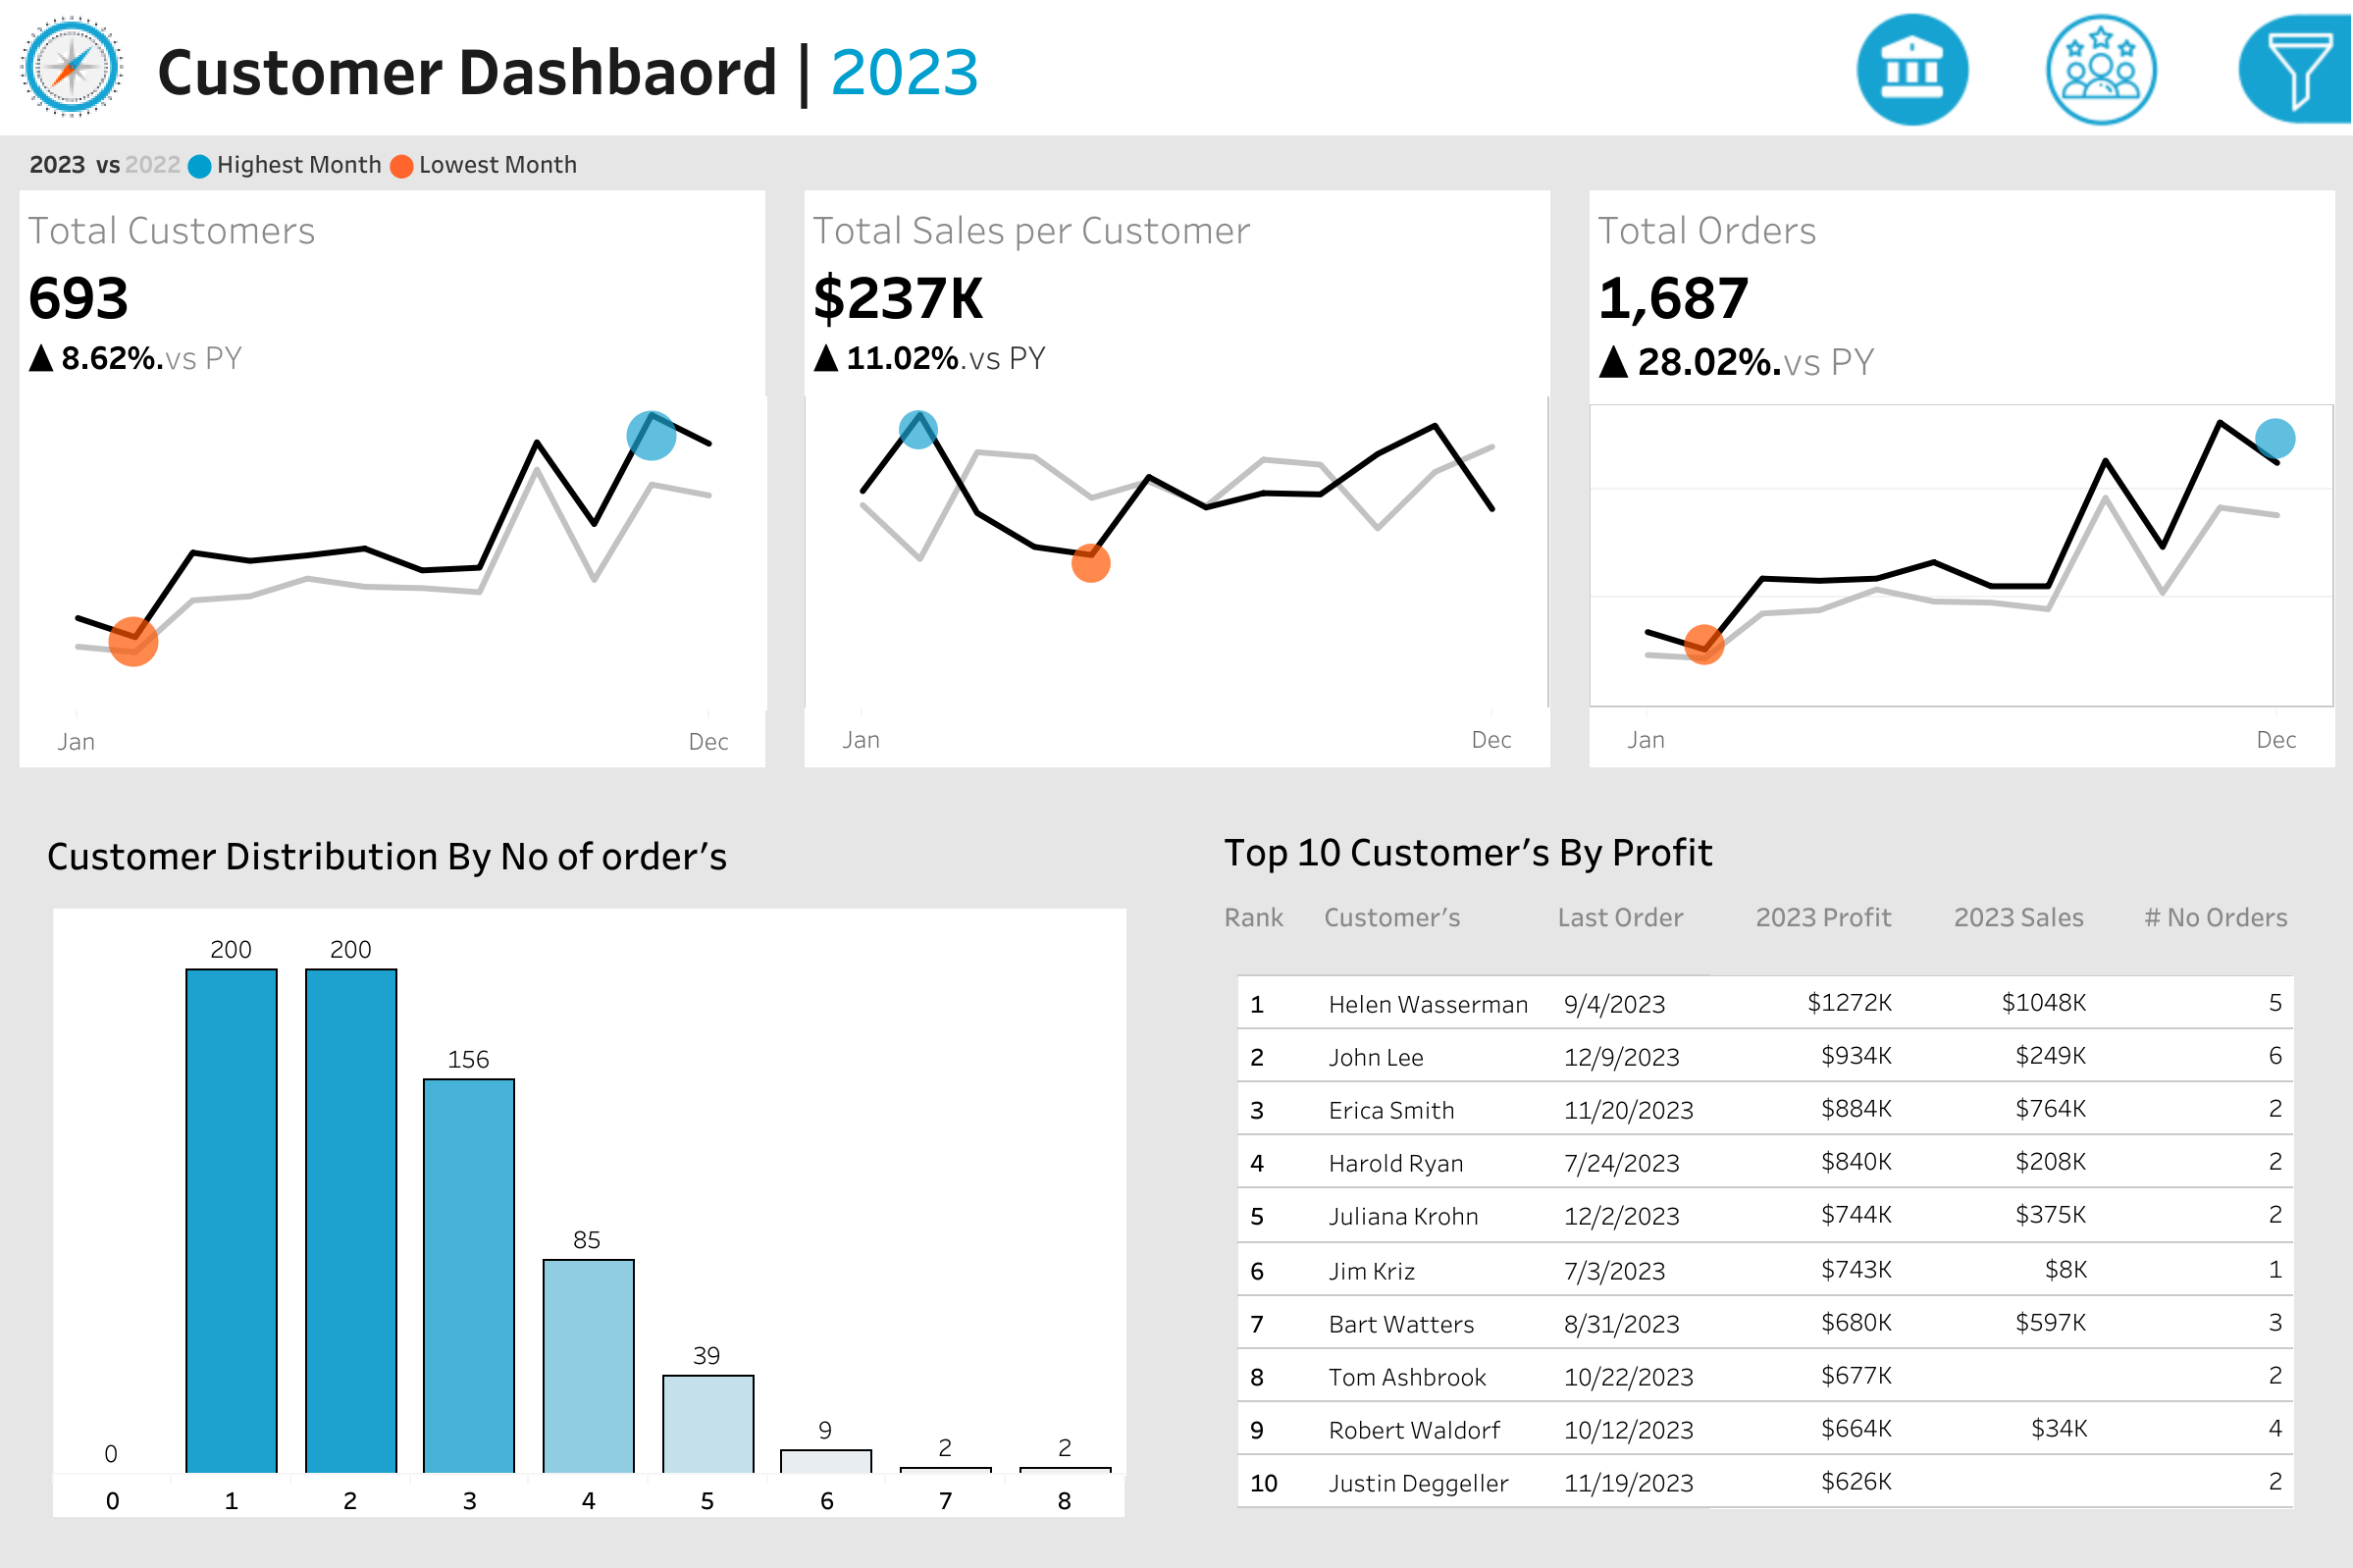

Layout of this report page (visuals, bound fields, positions):
{"tool":"tableau","page":{"name":"Customer Dashboard","canvas":[1200,800],"ordinal":0},"visuals":[{"type":"image","param":"Image/Icon - Logo.png","box":[0,0,73,69]},{"type":"text","box":[73,0,841,69]},{"type":"text","box":[931,1,258,169]},{"type":"dashboard-object","box":[926,2,97,67]},{"type":"dashboard-object","box":[1023,2,97,67]},{"type":"worksheet","title":"Legend KPI","mark":"Automatic","box":[0,69,1200,28]},{"type":"worksheet","title":"Total Customers KPI","mark":"Automatic","rows":["Calculation_0313039593754685"],"cols":["Order Date"],"box":[0,97,400,304]},{"type":"worksheet","title":"Total Sales per Customer","mark":"Automatic","rows":["Calculation_0313039603232833"],"cols":["Order Date"],"box":[400,97,400,304]},{"type":"worksheet","title":"Total Number of Orders","mark":"Automatic","rows":["Calculation_0313039616311366"],"cols":["Order Date"],"box":[800,97,400,304]},{"type":"parameter","param":"[Parameters].[Parameter 0313036124626950]","box":[931,170,258,69]},{"type":"text","box":[931,239,258,40]},{"type":"filter","title":"Legend KPI","param":"[federated.0c7x7px0ymvu0817mrlwu0zaqenl].[none:Category:nk]","box":[931,279,258,52]},{"type":"filter","title":"Legend KPI","param":"[federated.0c7x7px0ymvu0817mrlwu0zaqenl].[none:Sub-Category:nk]","box":[931,331,258,52]},{"type":"blank","box":[931,383,258,75]},{"type":"text","box":[17,418,566,34]},{"type":"text","box":[617,418,566,31]},{"type":"text","box":[617,449,51,34]},{"type":"text","box":[668,449,119,34]},{"type":"text","box":[787,449,101,34]},{"type":"text","box":[888,449,101,34]},{"type":"text","box":[989,449,97,34]},{"type":"text","box":[1086,449,97,34]},{"type":"worksheet","title":"Customer distribution","mark":"Bar","rows":["Calculation_0313038581002284"],"cols":["Calculation_0313039628963913"],"box":[17,452,566,331]},{"type":"text","box":[931,458,258,29]},{"type":"worksheet","title":"Top Customers","mark":"Automatic","rows":["Calculation_0313039669727311","Customer Name","Order Date"],"box":[617,483,566,300]},{"type":"filter","title":"Legend KPI","param":"[federated.0c7x7px0ymvu0817mrlwu0zaqenl].[none:Region:nk]","box":[931,487,258,52]},{"type":"filter","title":"Legend KPI","param":"[federated.0c7x7px0ymvu0817mrlwu0zaqenl].[none:State:nk]","box":[931,539,258,52]},{"type":"filter","title":"Legend KPI","param":"[federated.0c7x7px0ymvu0817mrlwu0zaqenl].[none:City:nk]","box":[931,591,258,52]}]}

Visuals, with their boxes in screenshot pixels (x1, y1, x2, y2), scaled from the page's 1200x800 canvas onto the 2353x1568 screenshot:
image: bbox=(0, 0, 143, 135)
text: bbox=(143, 0, 1792, 135)
text: bbox=(1825, 2, 2331, 334)
dashboard-object: bbox=(1815, 4, 2006, 135)
dashboard-object: bbox=(2006, 4, 2196, 135)
"Legend KPI" worksheet: bbox=(0, 135, 2352, 190)
"Total Customers KPI" worksheet: bbox=(0, 190, 784, 786)
"Total Sales per Customer" worksheet: bbox=(784, 190, 1569, 786)
"Total Number of Orders" worksheet: bbox=(1569, 190, 2352, 786)
parameter: bbox=(1825, 334, 2331, 468)
text: bbox=(1825, 468, 2331, 547)
"Legend KPI" filter: bbox=(1825, 547, 2331, 649)
"Legend KPI" filter: bbox=(1825, 649, 2331, 751)
blank: bbox=(1825, 751, 2331, 898)
text: bbox=(33, 819, 1143, 886)
text: bbox=(1210, 819, 2320, 880)
text: bbox=(1210, 880, 1310, 947)
text: bbox=(1310, 880, 1543, 947)
text: bbox=(1543, 880, 1742, 947)
text: bbox=(1742, 880, 1939, 947)
text: bbox=(1939, 880, 2129, 947)
text: bbox=(2129, 880, 2320, 947)
"Customer distribution" worksheet (Bar marks): bbox=(33, 886, 1143, 1535)
text: bbox=(1825, 898, 2331, 955)
"Top Customers" worksheet: bbox=(1210, 947, 2320, 1535)
"Legend KPI" filter: bbox=(1825, 955, 2331, 1057)
"Legend KPI" filter: bbox=(1825, 1057, 2331, 1159)
"Legend KPI" filter: bbox=(1825, 1159, 2331, 1260)
